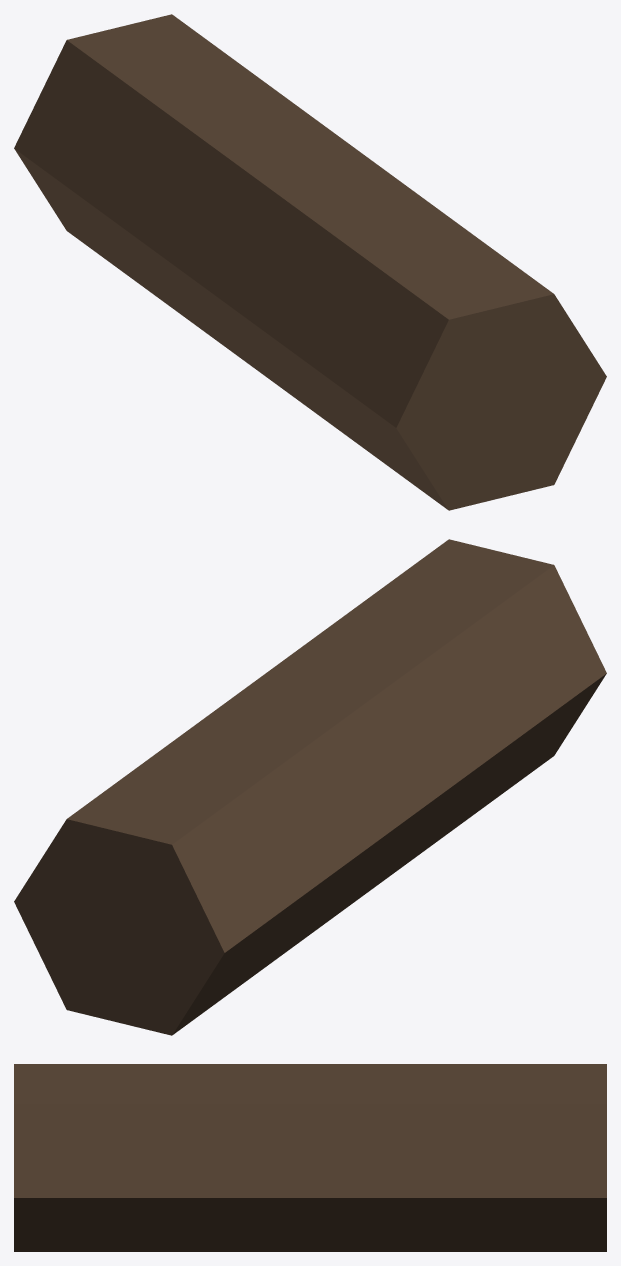
The model's file is tool_roll_lod2.glb.
3 renders of one model, top to bottom at view 1: azimuth 30°, elevation 25°; view 2: azimuth 150°, elevation 25°; view 3: azimuth 270°, elevation 25°, orthographic. The views are drawn at different scales.
Visible parts, largest first — view 1: tool_roll_lod2; view 2: tool_roll_lod2; view 3: tool_roll_lod2.
Part boxes in pixels (x1=…): tool_roll_lod2: x1=14, y1=14, x2=606, y2=510; tool_roll_lod2: x1=14, y1=539, x2=606, y2=1035; tool_roll_lod2: x1=14, y1=1064, x2=606, y2=1251.
Bounding box in the file's own units: 0.07 × 0.0606 × 0.22.
